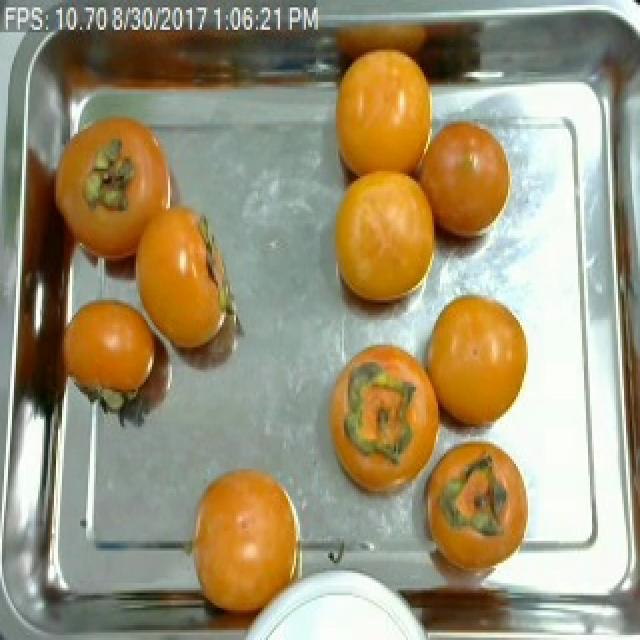Fruit: (178, 452, 320, 632), (320, 156, 446, 335), (410, 429, 540, 595), (326, 330, 442, 506), (414, 285, 540, 444), (322, 32, 442, 196), (418, 109, 520, 266), (60, 285, 170, 422)
